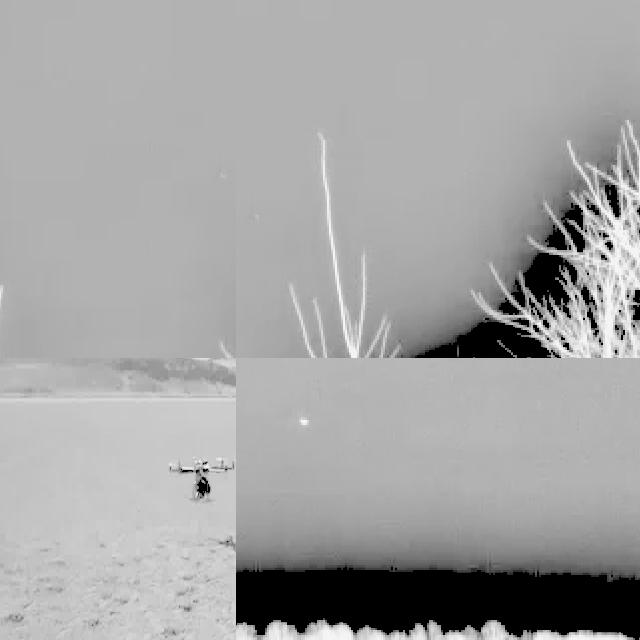0: (209, 166, 233, 196), (244, 208, 268, 238)
1: (288, 412, 312, 438)
drone: (165, 453, 233, 506)
